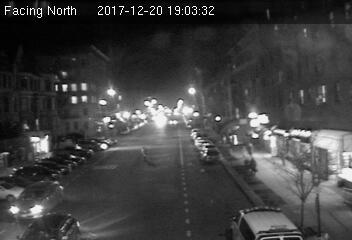car: (11, 179, 64, 222)
police: (226, 202, 302, 240)
